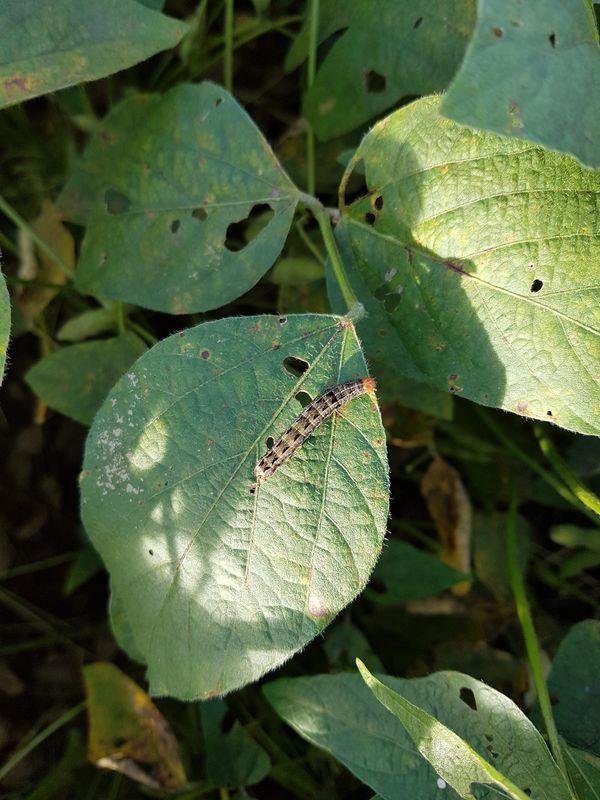Spodoptera_albula: (241, 363, 391, 497)
